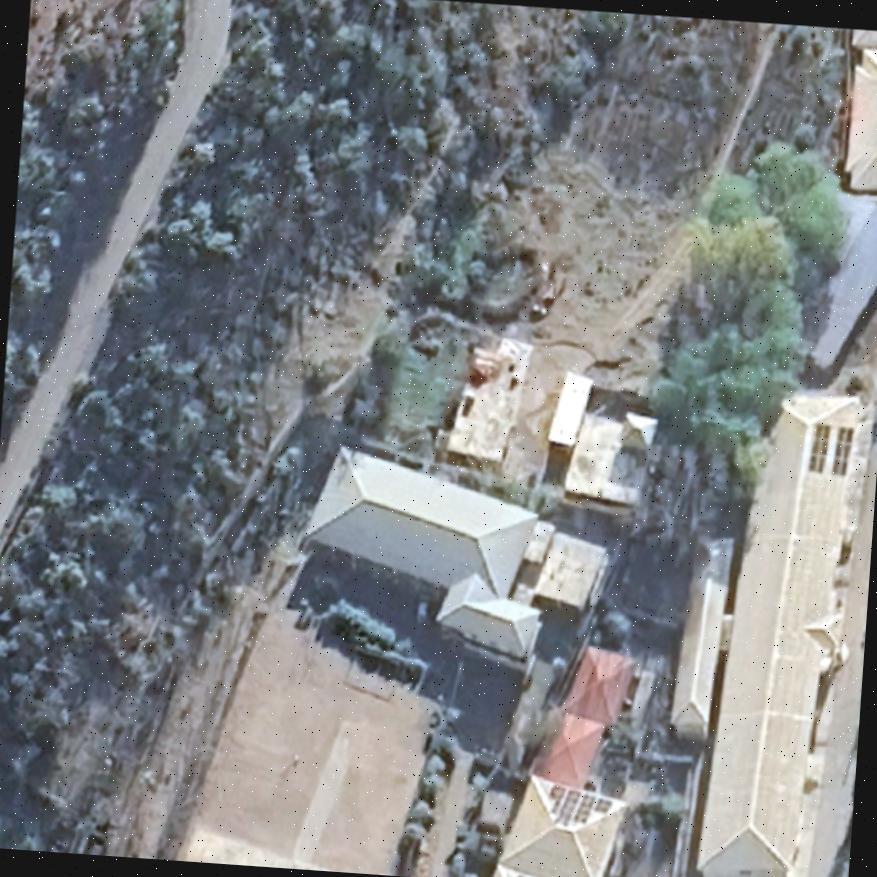Solarpanel: (542, 780, 602, 832), (828, 422, 856, 480), (804, 420, 832, 478), (509, 871, 565, 877)
